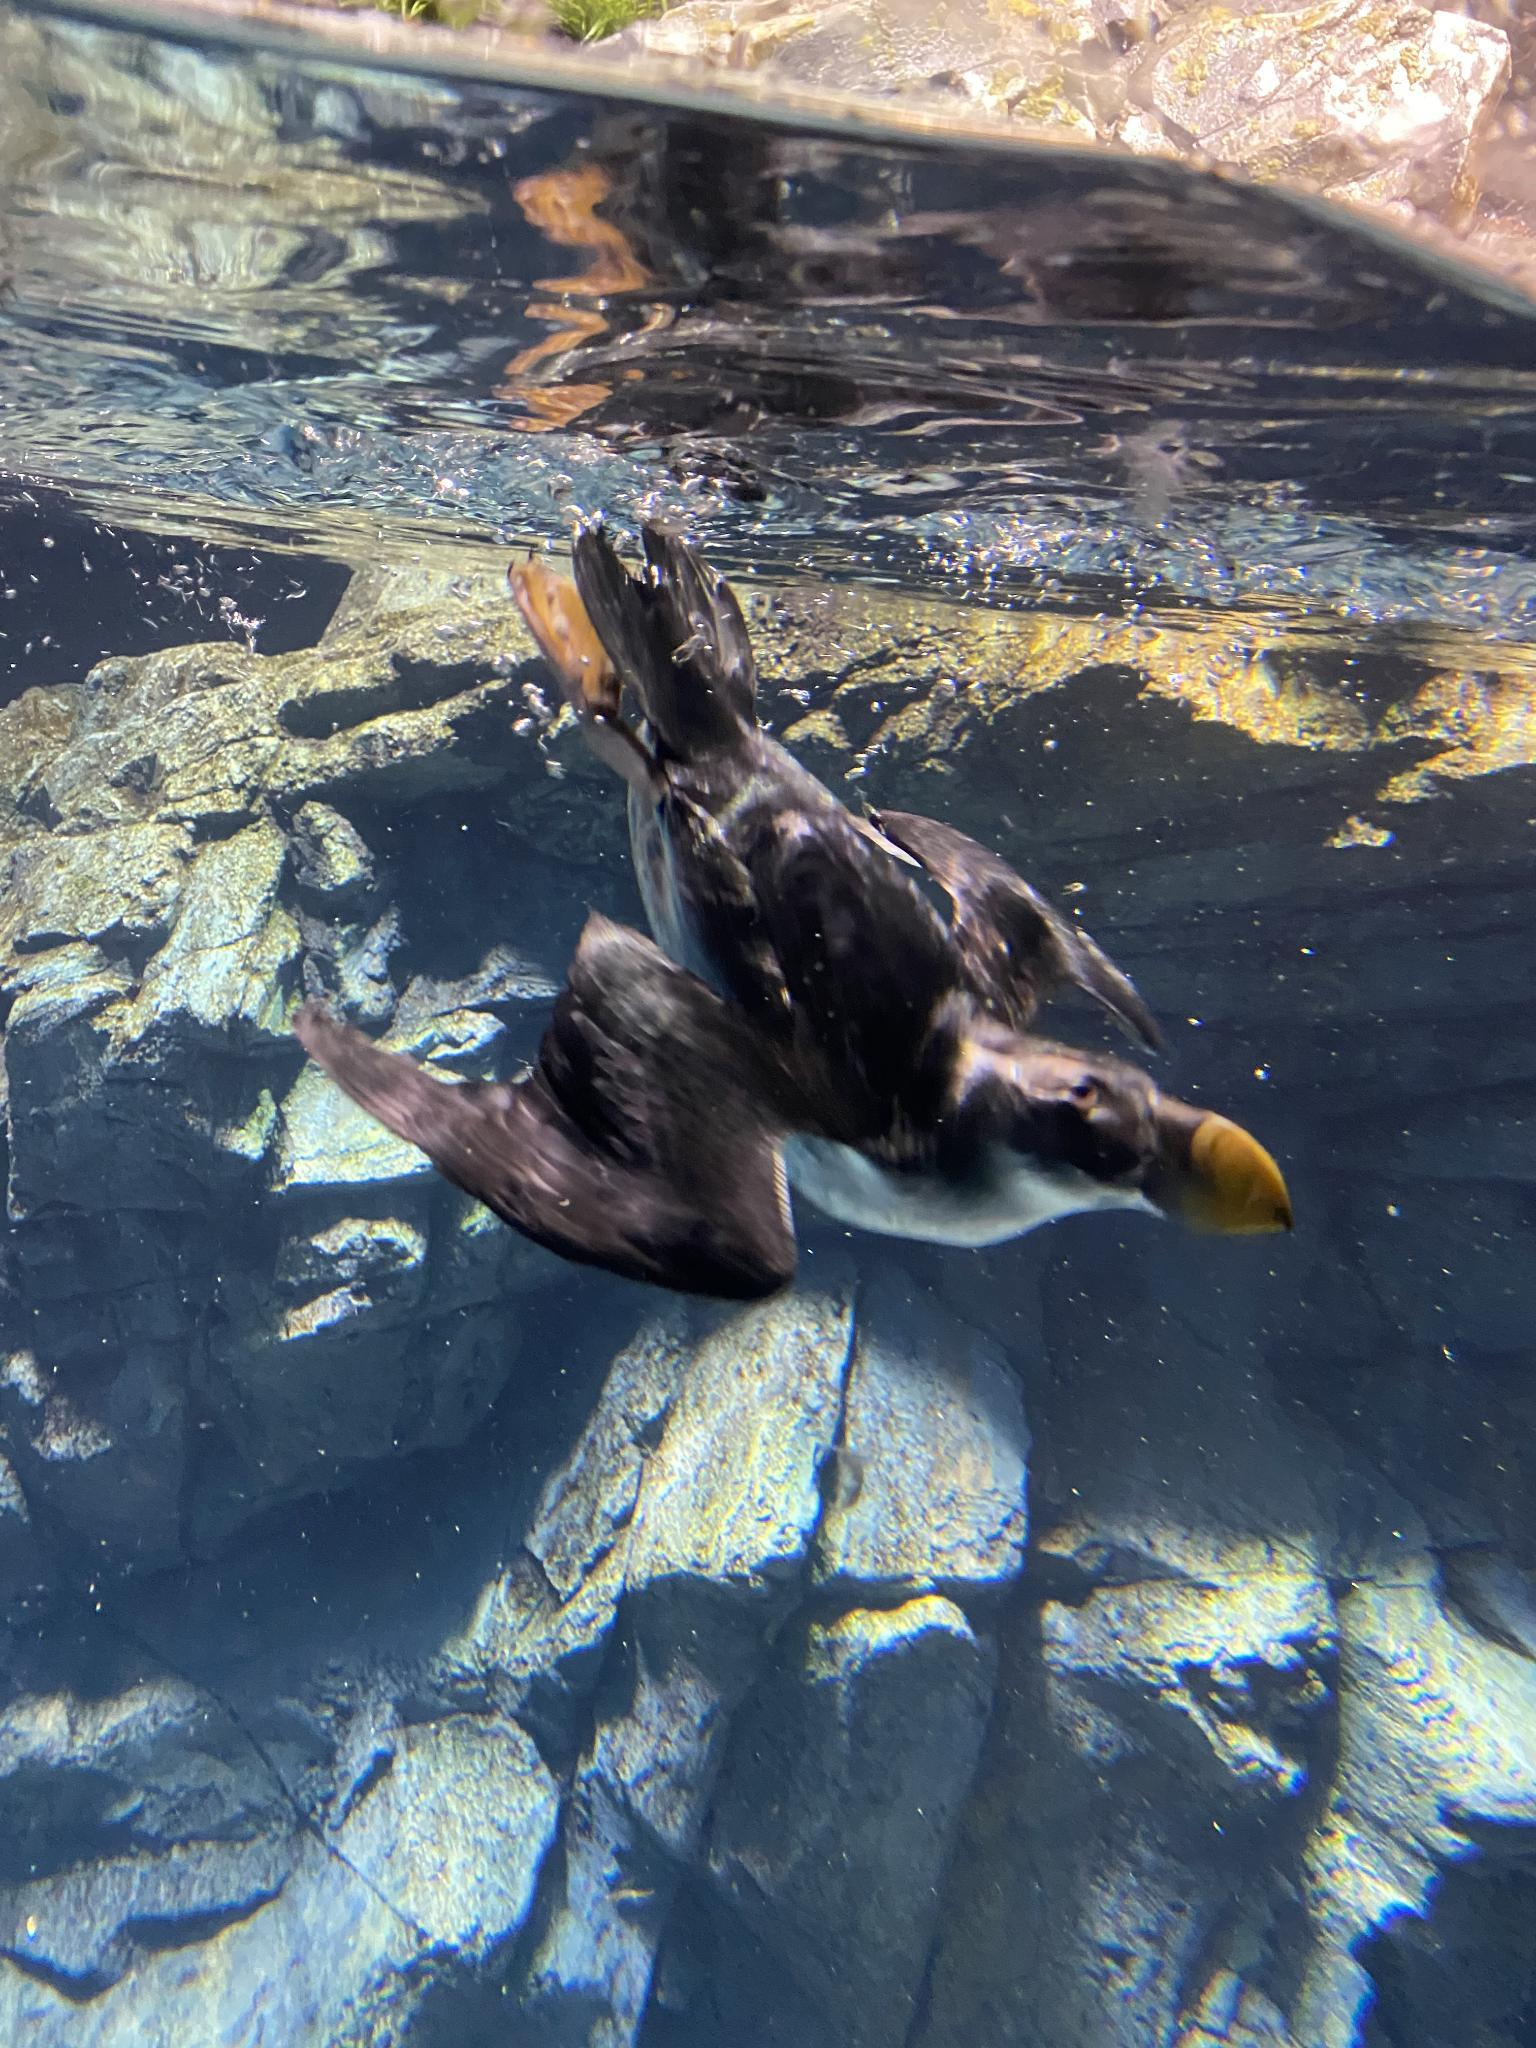puffin: (294, 481, 1304, 1297)
